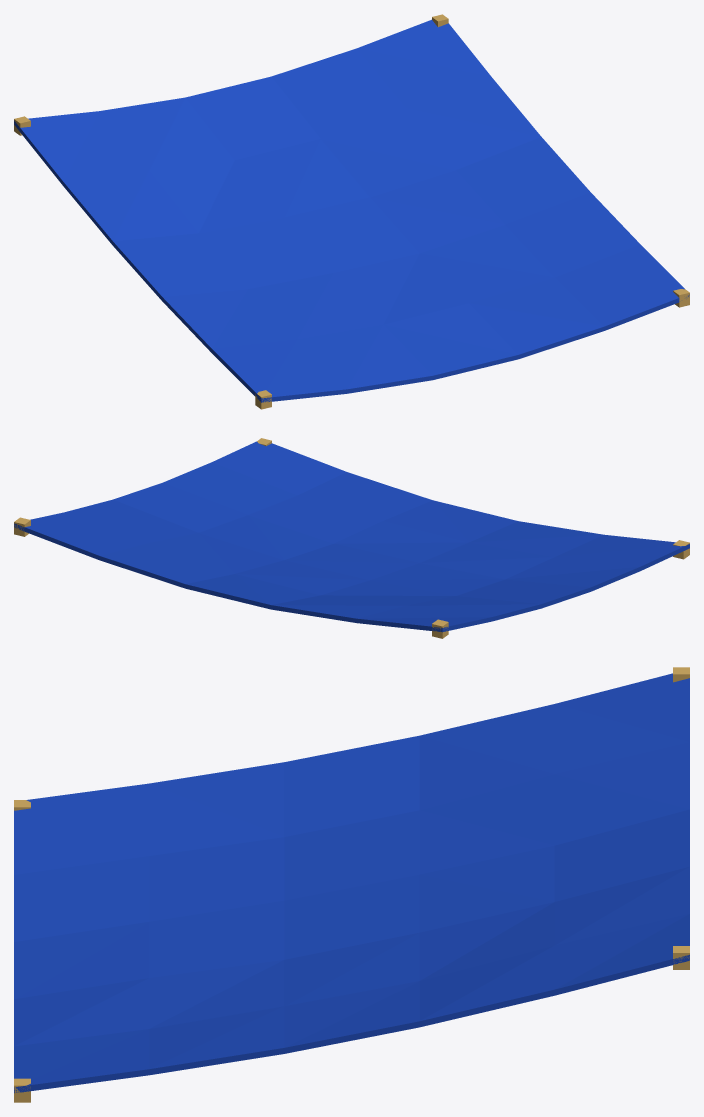
Rendered from SM_Stall_AwningTarp_3x3_01.fbx.
The picture shows the model from 3 angles, top to bottom: view 1: azimuth 30°, elevation 25°; view 2: azimuth 150°, elevation 25°; view 3: azimuth 270°, elevation 25°; orthographic projection. The views are drawn at different scales.
Visible parts, largest first — view 1: SM_Stall_AwningTarp_3x3_01; view 2: SM_Stall_AwningTarp_3x3_01; view 3: SM_Stall_AwningTarp_3x3_01.
Boxes of the visible parts, bbox=[...] form: SM_Stall_AwningTarp_3x3_01: bbox=[14, 14, 689, 409]; SM_Stall_AwningTarp_3x3_01: bbox=[14, 438, 689, 638]; SM_Stall_AwningTarp_3x3_01: bbox=[14, 667, 689, 1102].
Bounding box in the file's own units: 3 × 0.8164 × 3.
Materials: 1 (1 with a texture image).
